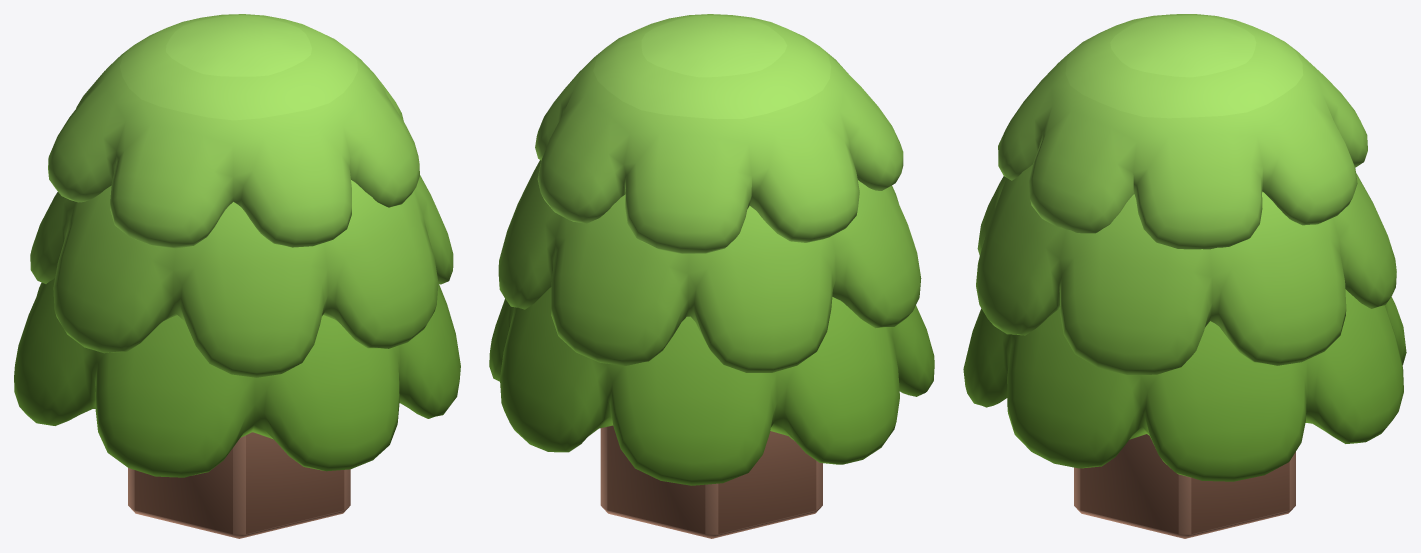
Rendered from big_leafs_tree_1.fbx.
3 renders of one model, left to right at view 1: azimuth 30°, elevation 25°; view 2: azimuth 150°, elevation 25°; view 3: azimuth 270°, elevation 25°, orthographic.
Visible parts, largest first — view 1: big_leafs_tree_1; view 2: big_leafs_tree_1; view 3: big_leafs_tree_1.
Part boxes in pixels (box(x1,y1,x2,y2)): big_leafs_tree_1: box(14, 14, 460, 538); big_leafs_tree_1: box(489, 14, 934, 538); big_leafs_tree_1: box(963, 14, 1406, 538).
Bounding box in the file's own units: 237 × 267 × 237.
